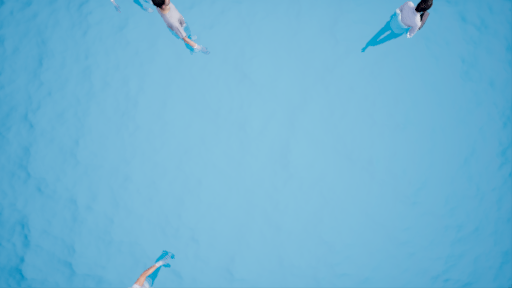person: (350, 1, 441, 56), (146, 2, 217, 59), (121, 243, 172, 288)
